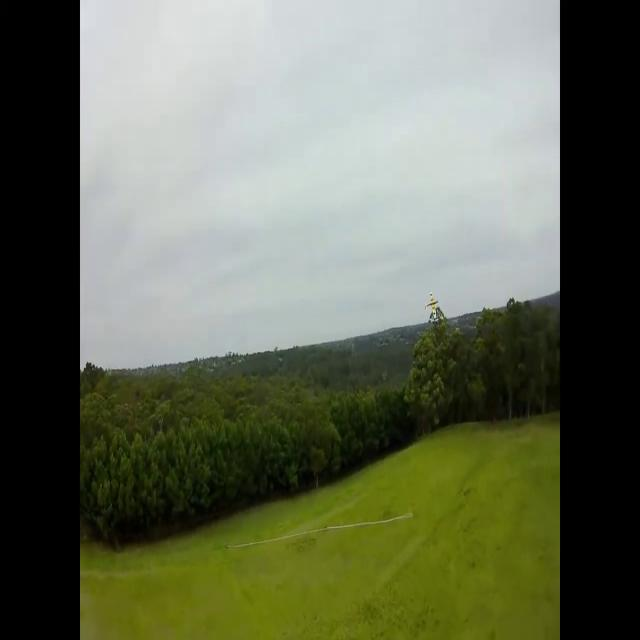iha: (426, 293, 439, 318)
